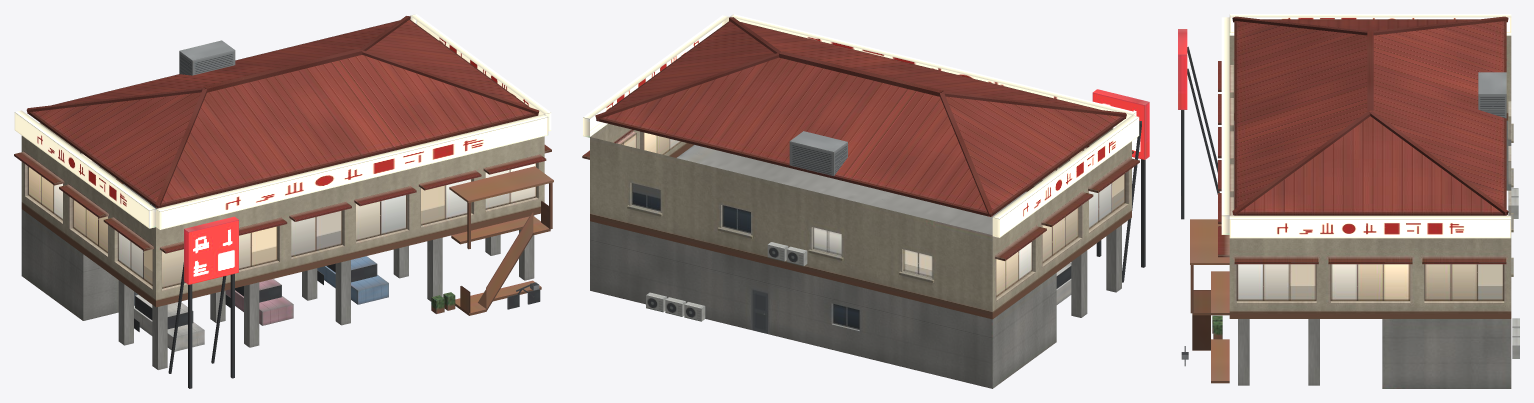
The model's file is tokyo_lowrise_c.glb.
3 views of the same model, side by side, from view 1: azimuth 30°, elevation 25°; view 2: azimuth 150°, elevation 25°; view 3: azimuth 270°, elevation 25° (orthographic). The views are drawn at different scales.
Parts seen in each view (by area): view 1: tokyo_lowrise_c; view 2: tokyo_lowrise_c; view 3: tokyo_lowrise_c.
Boxes of the visible parts, x1,y1,x2,y2 form: tokyo_lowrise_c: (14, 14, 553, 388); tokyo_lowrise_c: (582, 14, 1149, 388); tokyo_lowrise_c: (1178, 14, 1519, 388).
Size of the model in its own units: 21 by 10.31 by 14.57.
Materials: 1 (1 with a texture image).
